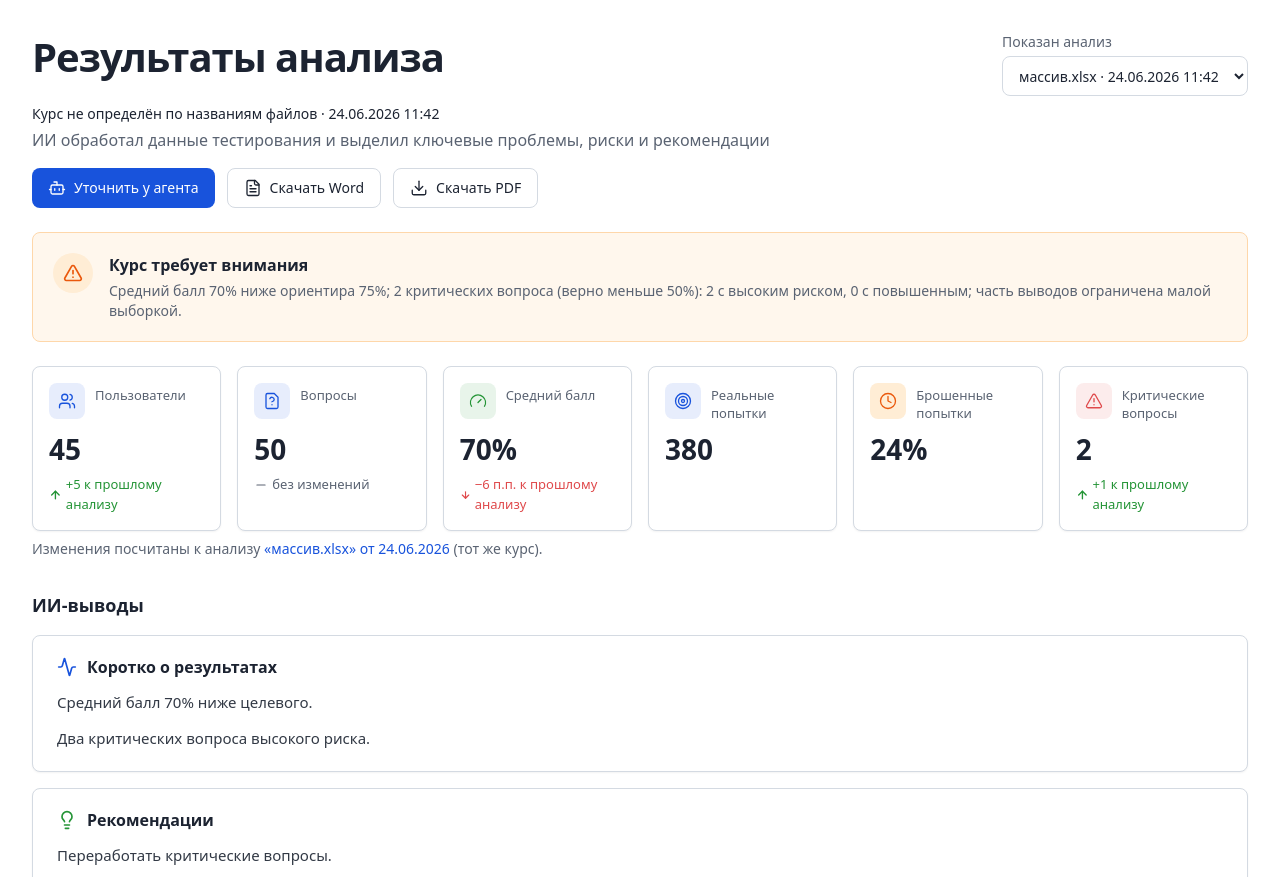
it: Results — ask the agent and download › shows the Russian failure text when the PDF cannot be produced
Step 1. Click the button "Скачать PDF" → (466, 188), box [393, 168, 538, 208]
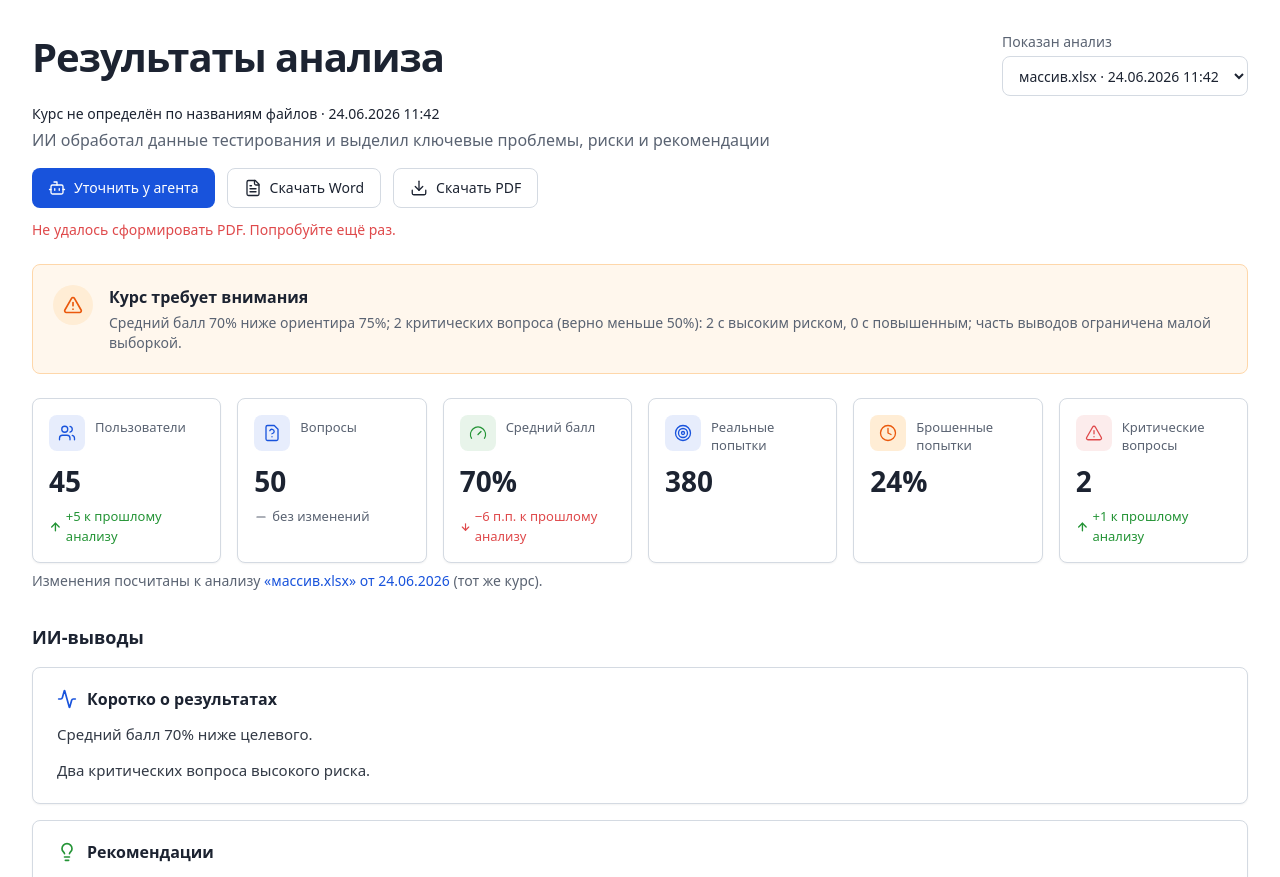
Expected: the text "Не удалось сформировать PDF. Попробуйте ещё раз." is shown, [32, 220, 396, 239]
